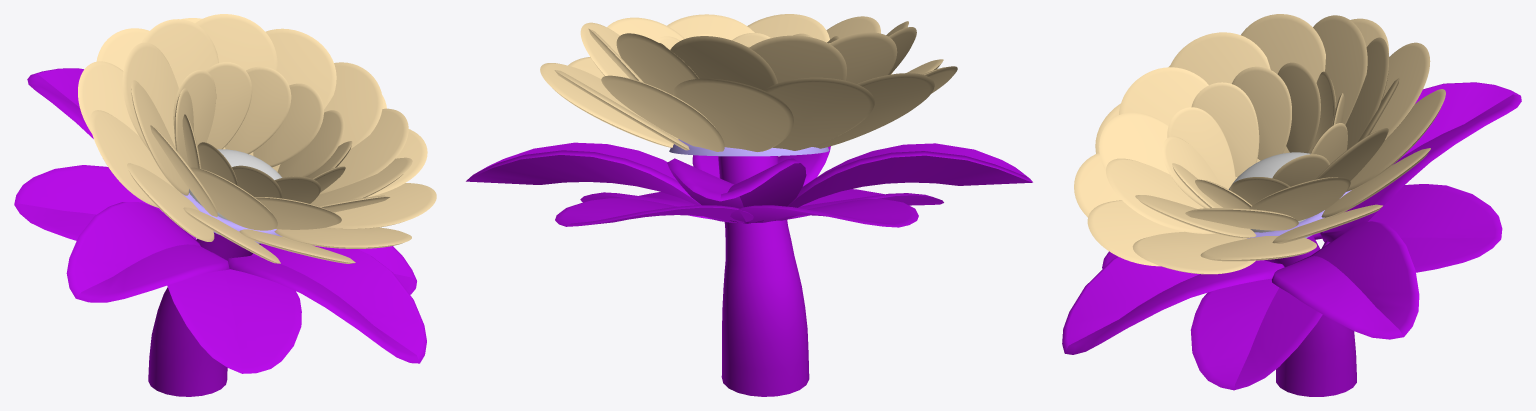
File: Flower4.fbx
The picture shows the model from 3 angles, left to right: view 1: azimuth 30°, elevation 25°; view 2: azimuth 150°, elevation 25°; view 3: azimuth 270°, elevation 25°; orthographic projection. The views are drawn at different scales.
Visible parts, largest first — view 1: pedals4, leaves, stem4, center; view 2: pedals4, leaves, stem4; view 3: pedals4, leaves, stem4, center.
Part boxes in pixels (x1=…): pedals4: x1=78, y1=14, x2=436, y2=263; leaves: x1=14, y1=68, x2=426, y2=373; stem4: x1=148, y1=232, x2=260, y2=396; center: x1=189, y1=149, x2=282, y2=221; pedals4: x1=540, y1=14, x2=957, y2=151; leaves: x1=466, y1=139, x2=1032, y2=227; stem4: x1=718, y1=156, x2=809, y2=396; pedals4: x1=1074, y1=14, x2=1445, y2=274; leaves: x1=1062, y1=82, x2=1521, y2=390; stem4: x1=1264, y1=235, x2=1356, y2=396; center: x1=1229, y1=152, x2=1310, y2=232.
Size of the model in its own units: 0.9952 by 0.772 by 0.94.
